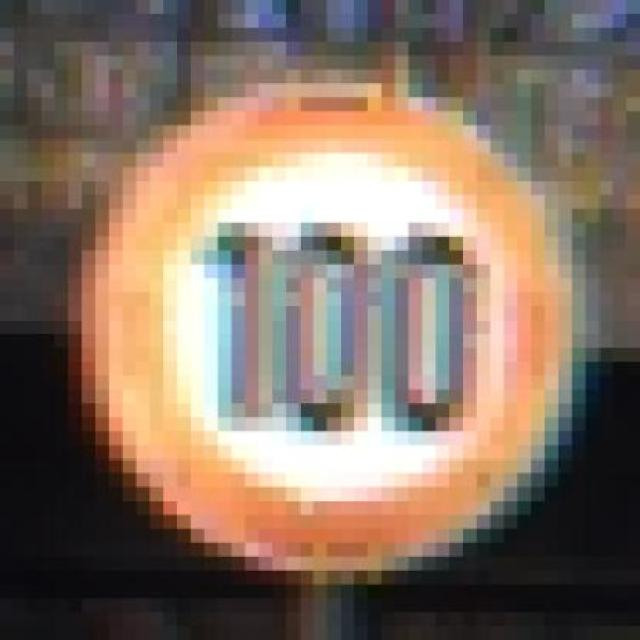forb_speed_over_100: (89, 99, 566, 576)
